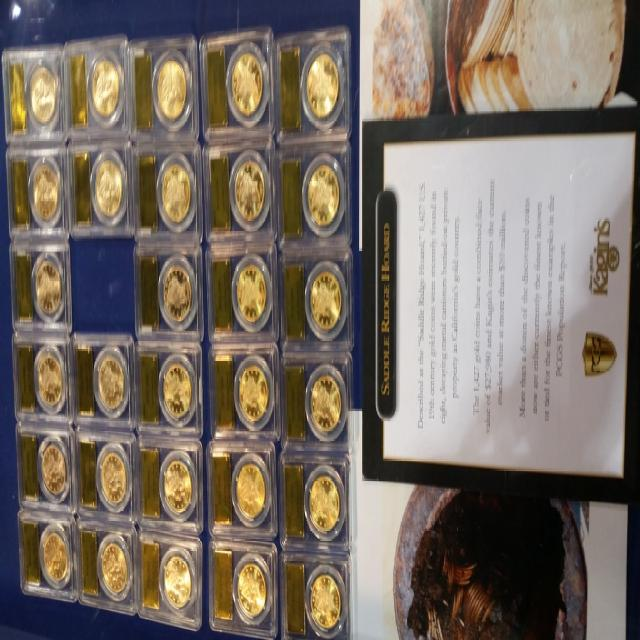Coin: (32, 47, 342, 630), (100, 542, 132, 593)
